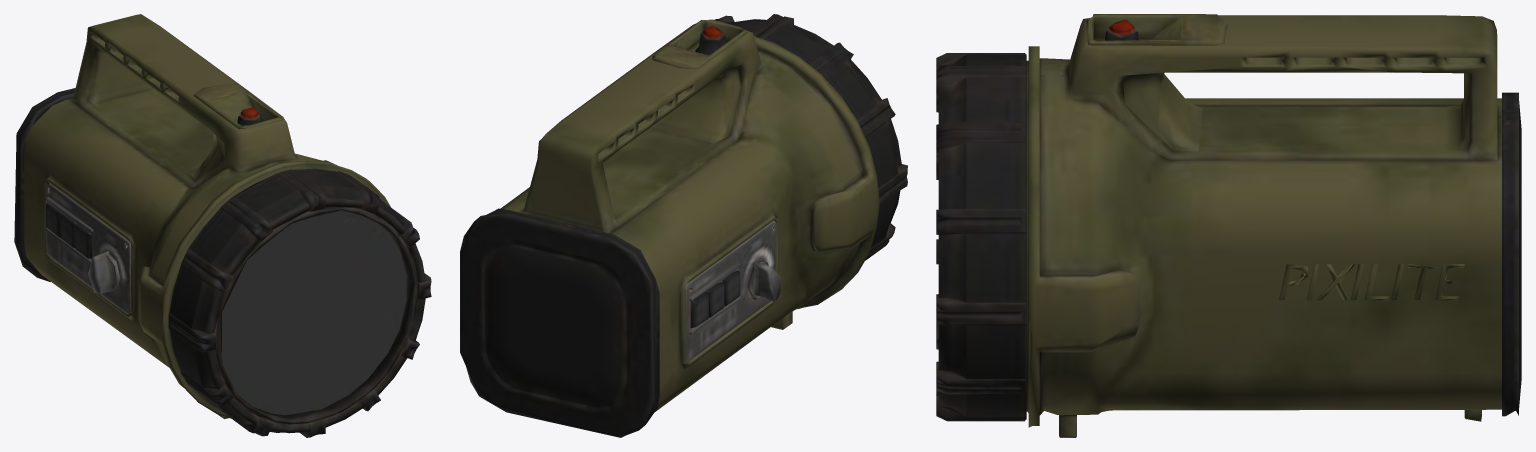
File: portable_searchlight.slim.glb
The picture shows the model from 3 angles, left to right: view 1: azimuth 30°, elevation 25°; view 2: azimuth 150°, elevation 25°; view 3: azimuth 270°, elevation 25°; orthographic projection. The views are drawn at different scales.
Bounding box in the file's own units: 0.1653 × 0.1849 × 0.2534.
Materials: 2 (2 with a texture image).
